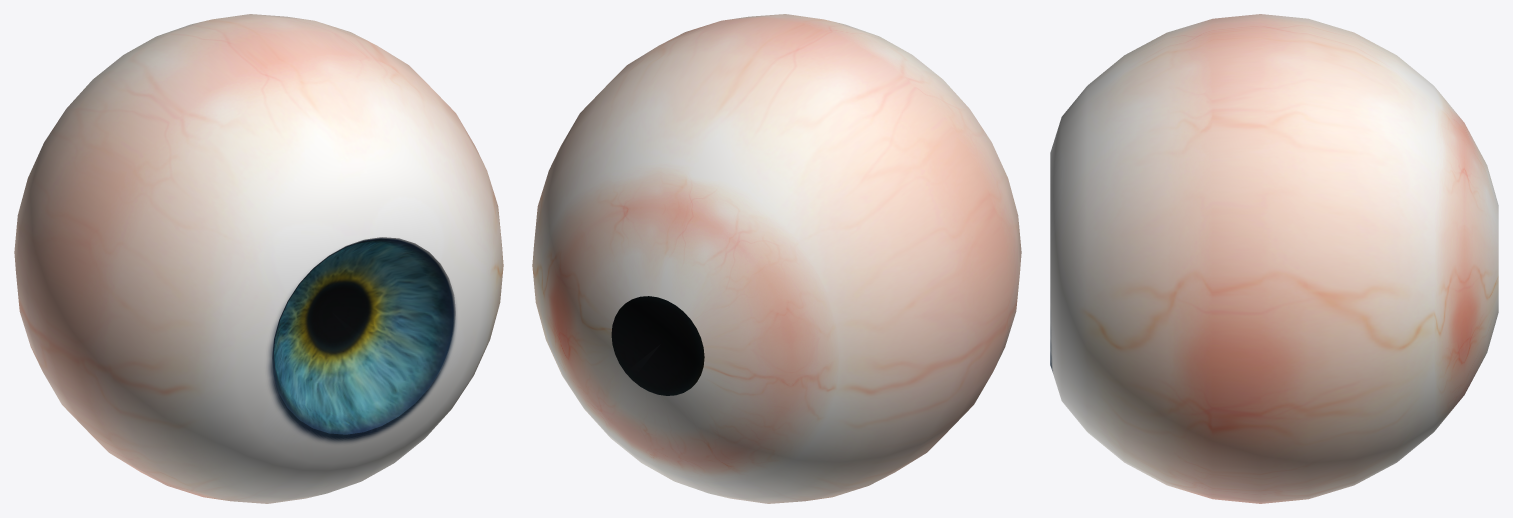
The model's file is EyeBall.FBX.
The picture shows the model from 3 angles, left to right: view 1: azimuth 30°, elevation 25°; view 2: azimuth 150°, elevation 25°; view 3: azimuth 270°, elevation 25°; orthographic projection.
Visible parts, largest first — view 1: eyeball; view 2: eyeball; view 3: eyeball.
Part boxes in pixels (x1,y1,x2,y2): eyeball: [14, 14, 503, 503]; eyeball: [532, 14, 1021, 503]; eyeball: [1050, 14, 1498, 503].
Bounding box in the file's own units: 9.19 × 8.4 × 9.19.
Materials: 1 (1 with a texture image).
